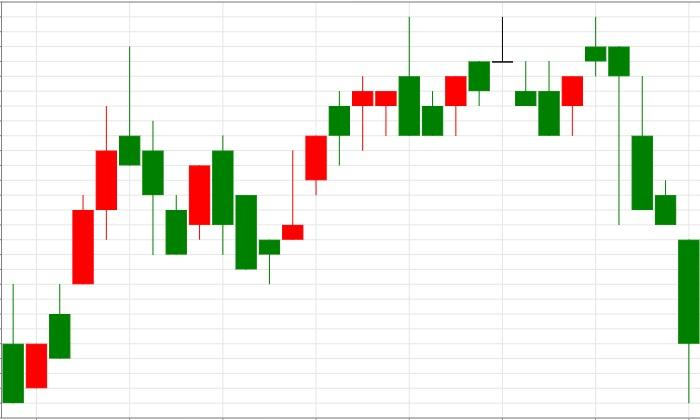shooting_star_fall: (26, 45, 140, 389)
